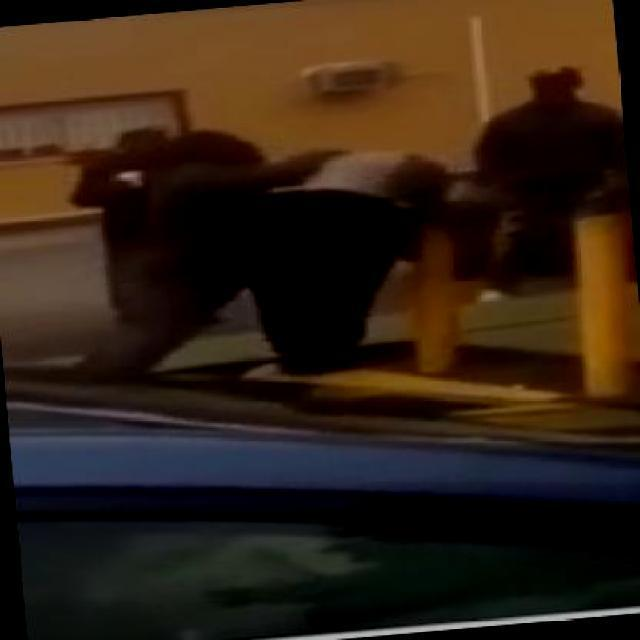fight: (67, 101, 473, 386)
non-fight: (458, 61, 634, 308)
